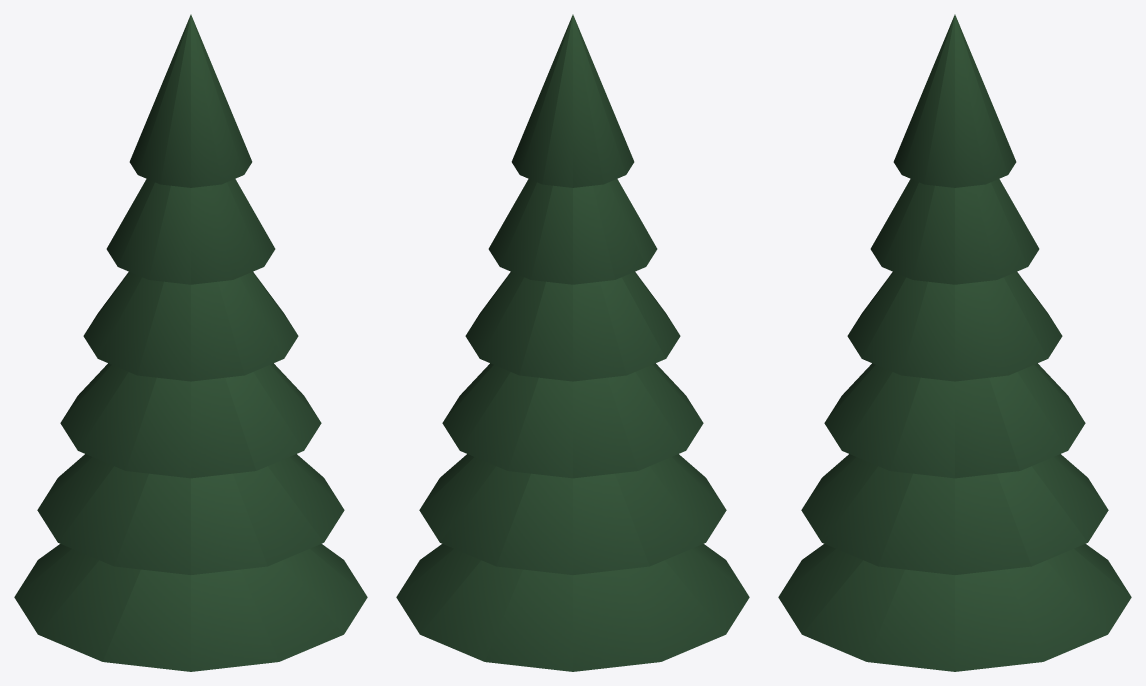
The model's file is tree_pine_01.glb.
The picture shows the model from 3 angles, left to right: view 1: azimuth 30°, elevation 25°; view 2: azimuth 150°, elevation 25°; view 3: azimuth 270°, elevation 25°; orthographic projection.
Visible parts, largest first — view 1: tree_pine_01; view 2: tree_pine_01; view 3: tree_pine_01.
Part boxes in pixels (left/top/right/bottom): tree_pine_01: left=14, top=14, right=367, bottom=671; tree_pine_01: left=396, top=14, right=749, bottom=671; tree_pine_01: left=778, top=14, right=1131, bottom=671.
Size of the model in its own units: 2.39 by 4.36 by 2.39.
